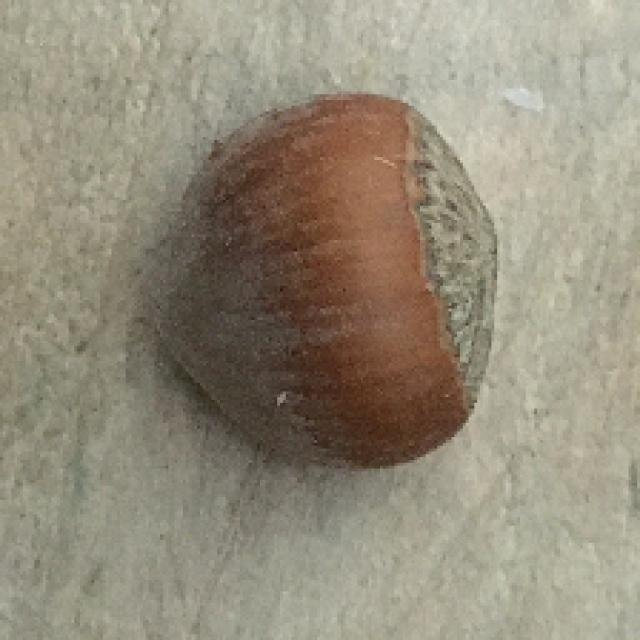qualityHazelnut: (138, 92, 507, 470)
